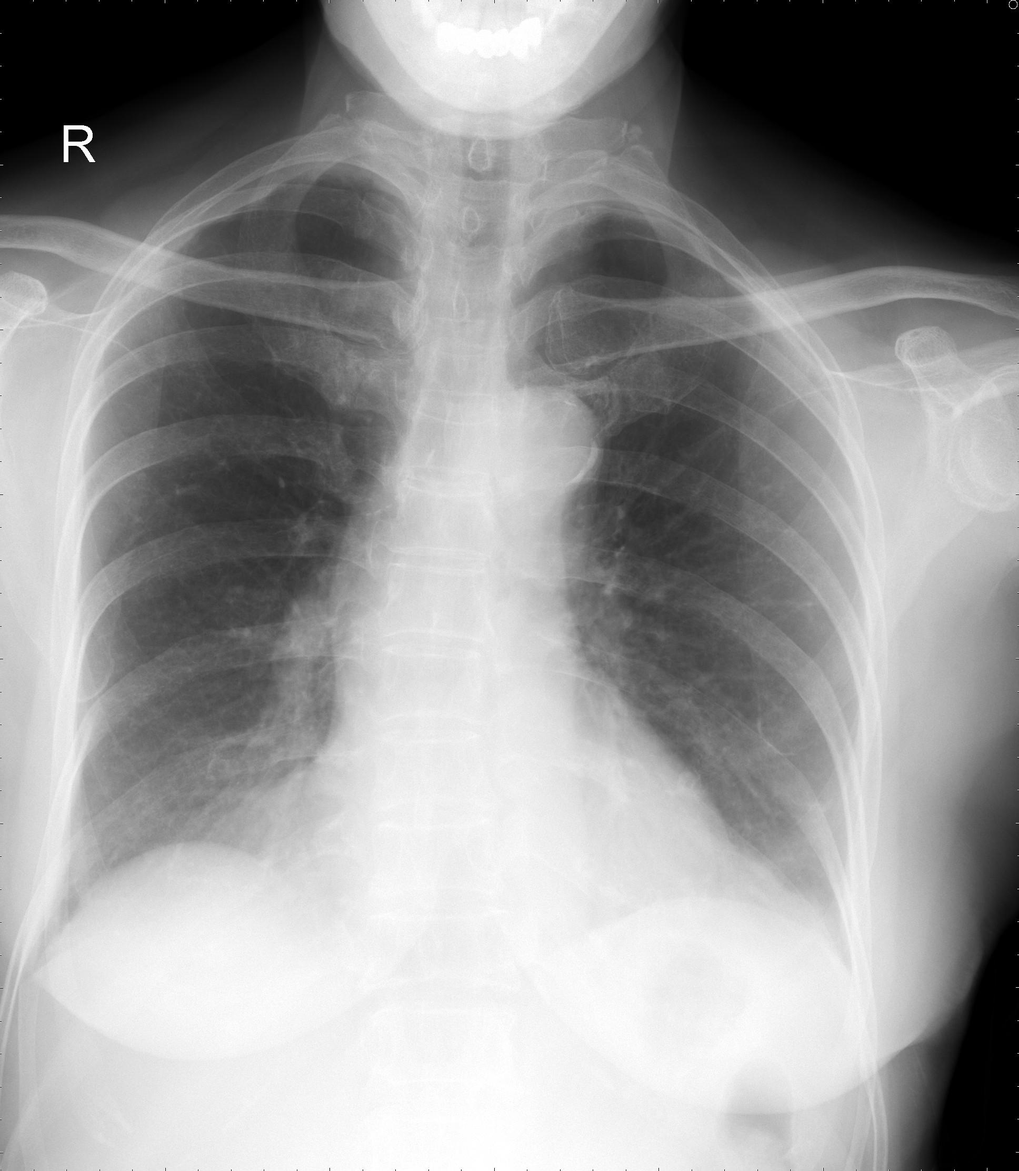Aortic enlargement: (483, 386, 600, 490)
Cardiomegaly: (278, 767, 756, 891)
